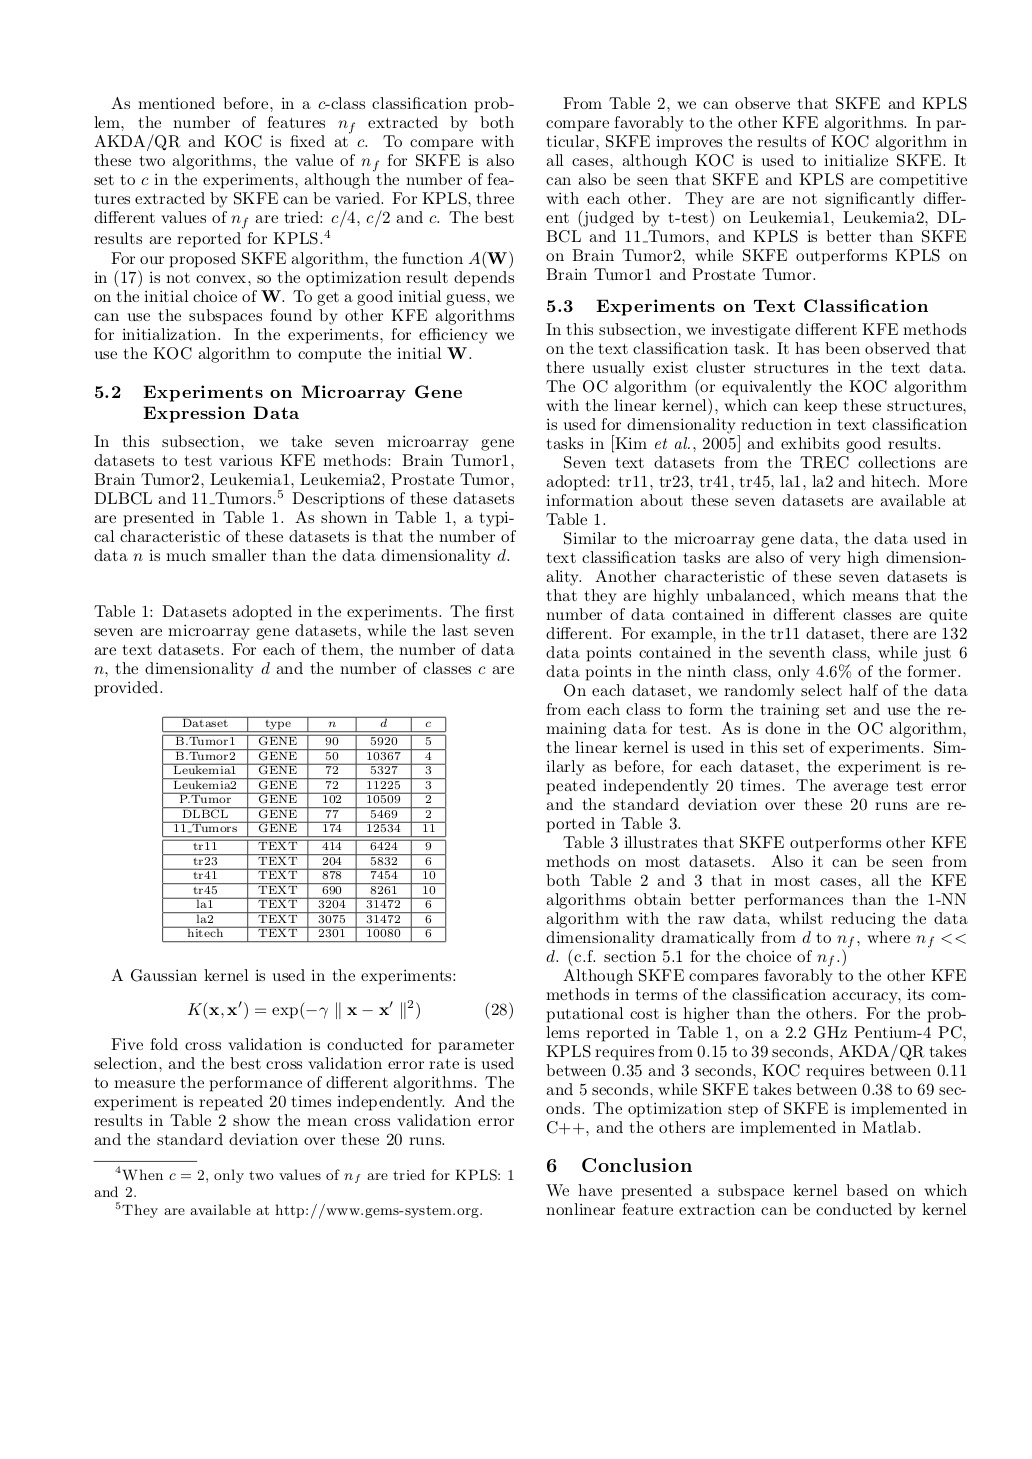Table: (162, 716, 446, 943)
formula: (187, 999, 512, 1020)
